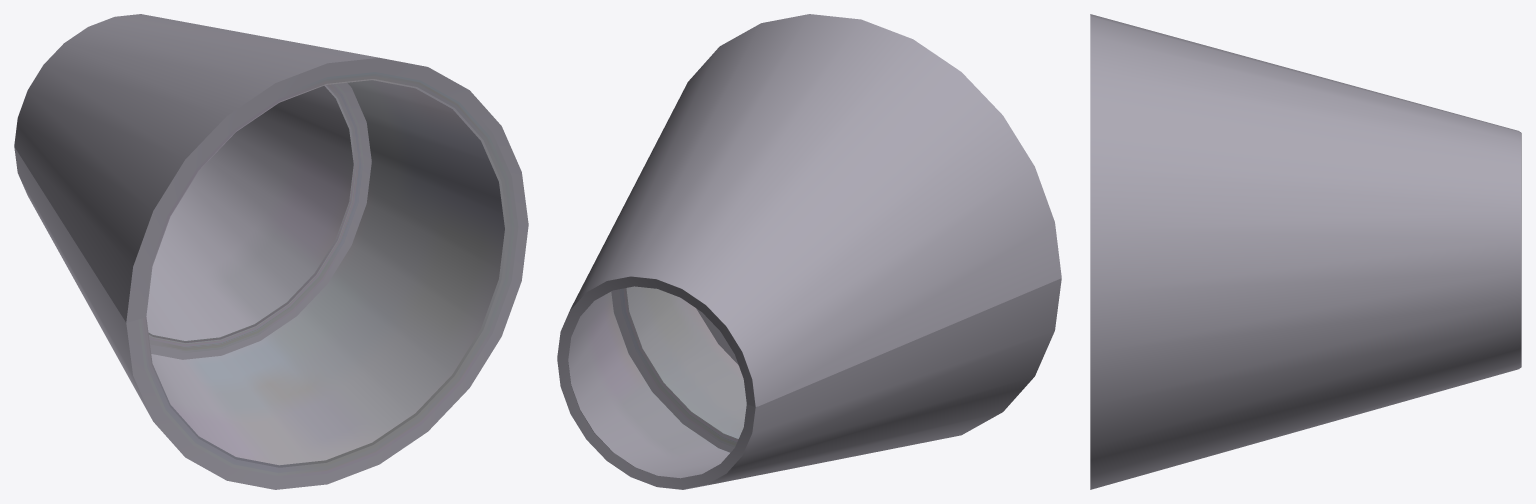
The model's file is tentofiveftinterstage.obj.
The picture shows the model from 3 angles, left to right: view 1: azimuth 30°, elevation 25°; view 2: azimuth 150°, elevation 25°; view 3: azimuth 270°, elevation 25°; orthographic projection. The views are drawn at different scales.
Visible parts, largest first — view 1: group1, group0, group2, group4; view 2: group0, group1, group3, group4; view 3: group0, group1.
Part boxes in pixels (x1=…): group1: x1=26, y1=43, x2=504, y2=465; group0: x1=14, y1=14, x2=378, y2=420; group2: x1=126, y1=57, x2=528, y2=489; group4: x1=148, y1=83, x2=371, y2=359; group0: x1=557, y1=14, x2=1061, y2=489; group1: x1=568, y1=274, x2=757, y2=484; group3: x1=557, y1=276, x2=755, y2=489; group4: x1=611, y1=288, x2=738, y2=452; group0: x1=1090, y1=14, x2=1519, y2=489; group1: x1=1519, y1=132, x2=1521, y2=367.
Size of the model in its own units: 3.11 by 3.11 by 2.81.
1 material, 1 textured.
